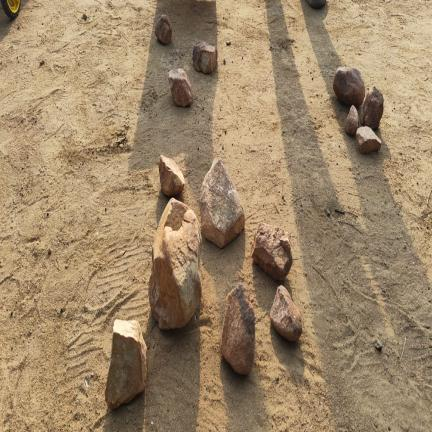Rocks: (149, 199, 201, 329), (200, 158, 244, 247), (105, 320, 147, 410), (221, 284, 255, 374), (253, 222, 292, 280), (270, 286, 302, 341), (333, 67, 365, 105), (159, 155, 184, 196), (361, 87, 383, 129), (169, 69, 193, 106), (193, 42, 217, 73), (356, 126, 381, 153), (155, 15, 172, 44), (346, 105, 358, 135), (307, 0, 325, 8), (376, 340, 382, 351)
